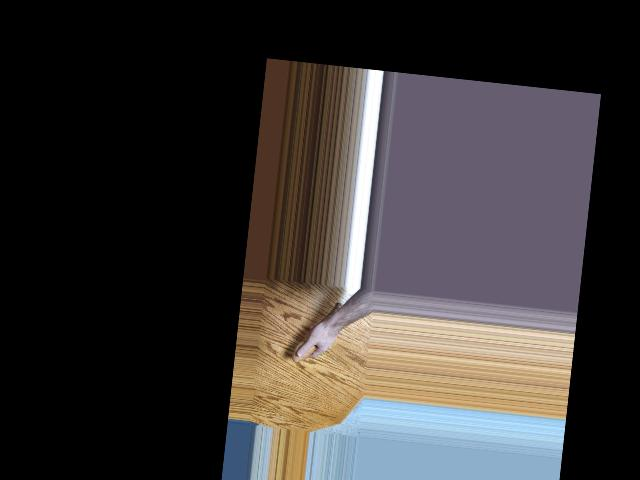sweet_potato: (290, 296, 341, 367)
